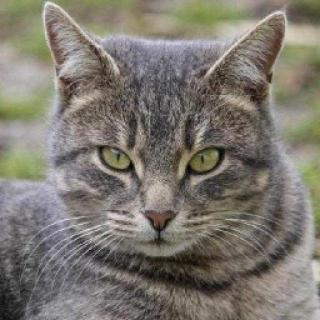cat: (39, 4, 294, 255)
nose: (138, 190, 177, 239)
